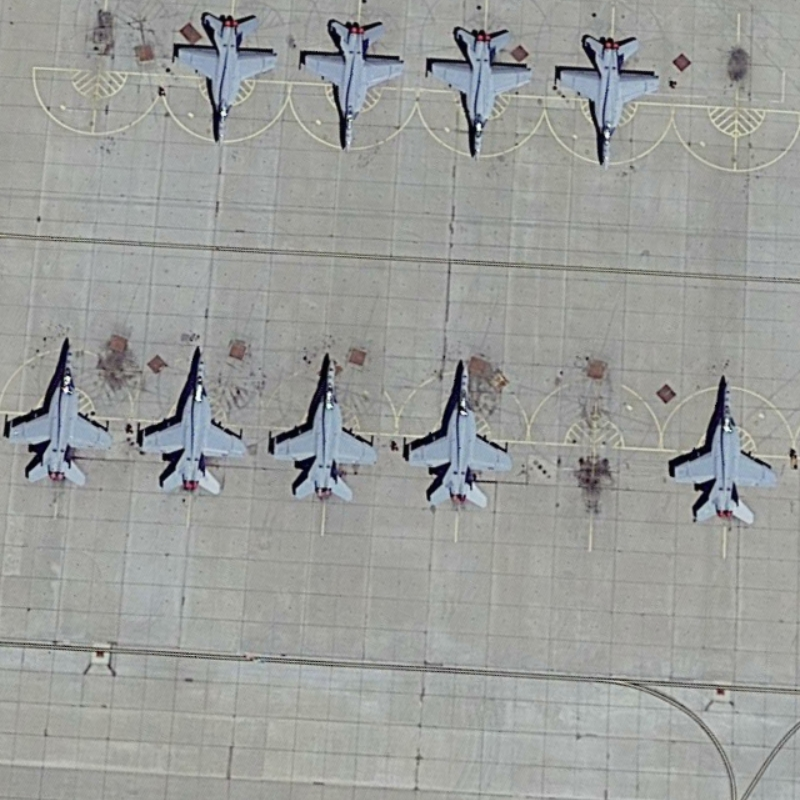A16: (133, 336, 256, 499), (4, 328, 121, 488), (400, 354, 518, 511), (664, 372, 780, 528), (267, 351, 383, 504), (549, 26, 664, 176), (297, 15, 410, 158), (424, 22, 538, 163), (171, 6, 282, 147)
